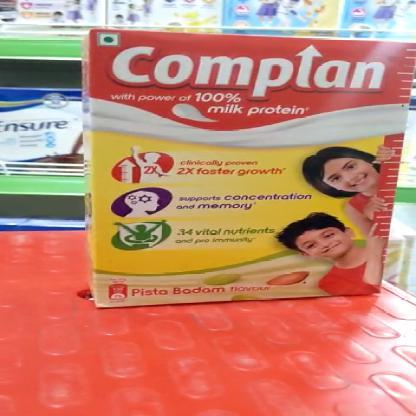Complan Pista Badam: (94, 34, 396, 304)
